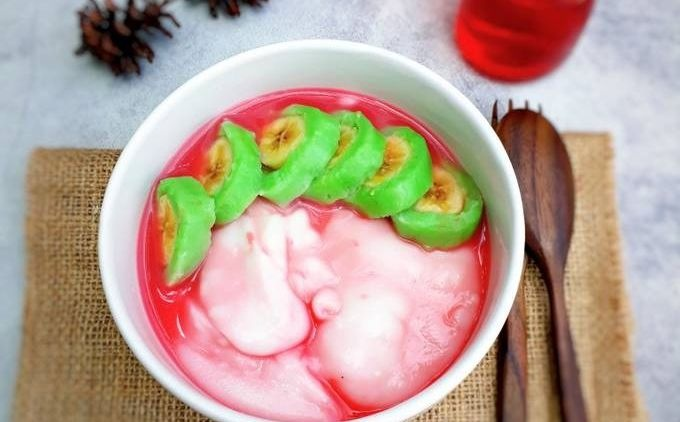es_pisang_ijo: (141, 90, 490, 419)
